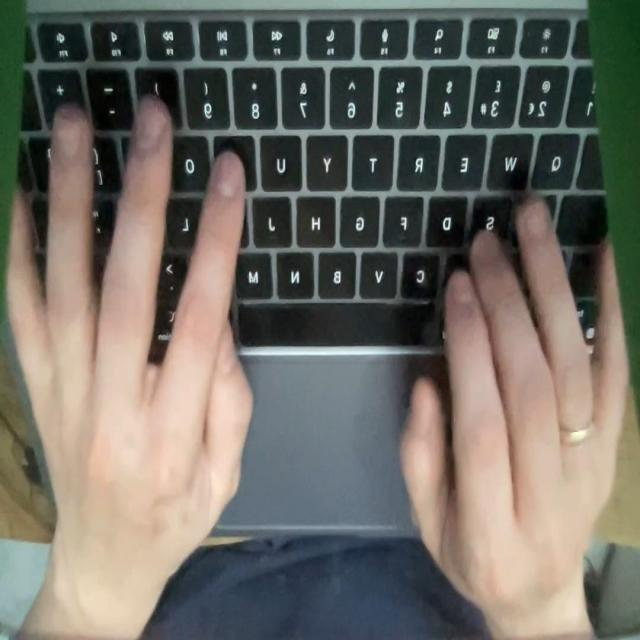keyboard-with-hands: (4, 13, 624, 534)
